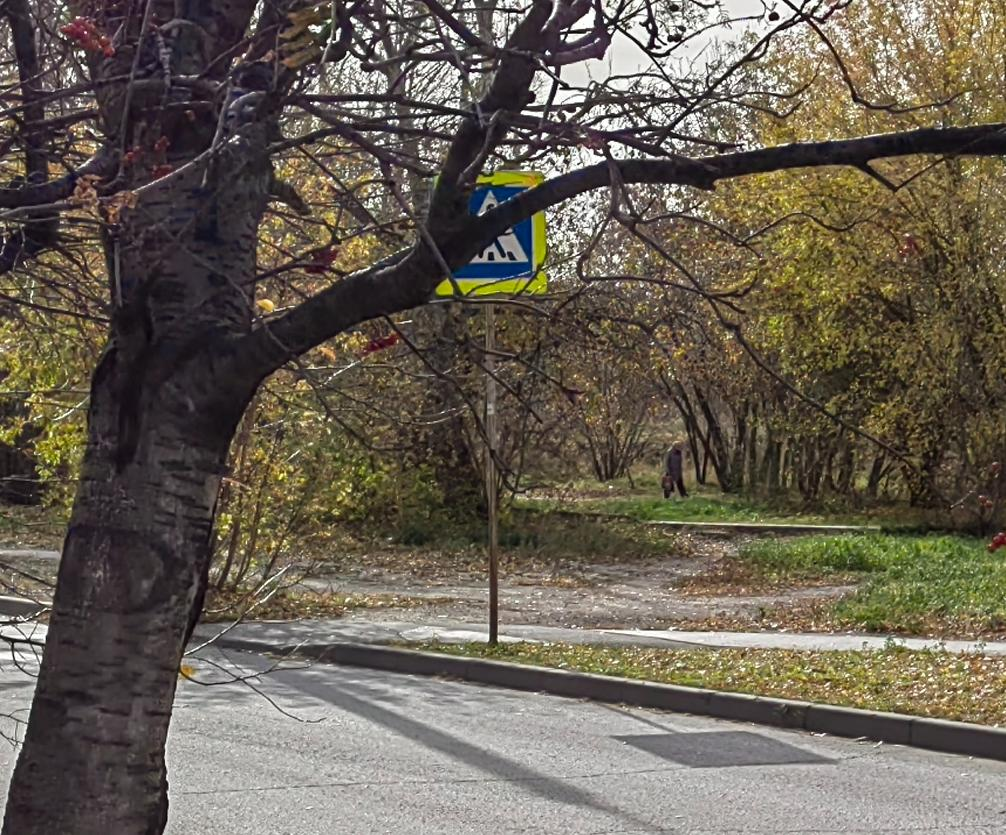obstructed_road_sign: (436, 170, 547, 296)
